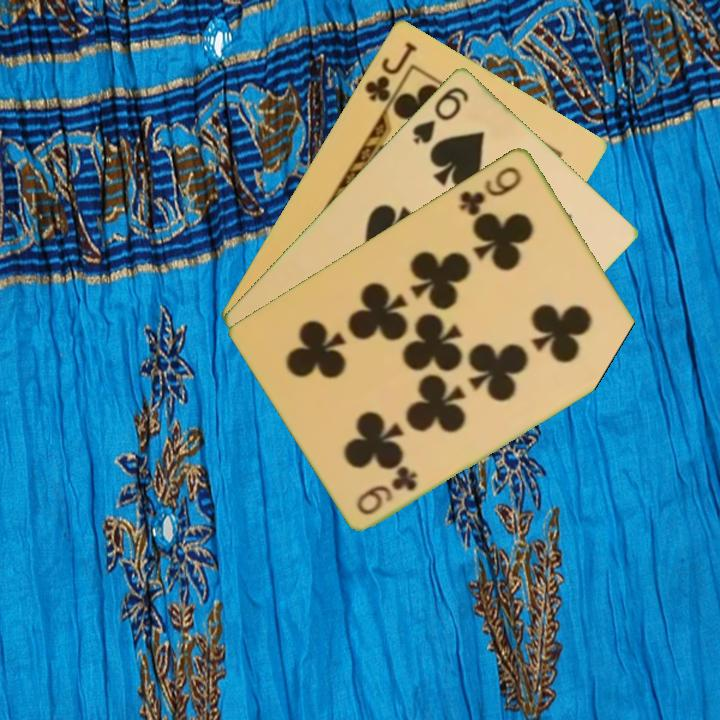6s: (409, 82, 472, 147)
9c: (456, 162, 525, 218), (352, 463, 421, 518)
Jc: (360, 37, 421, 105)
